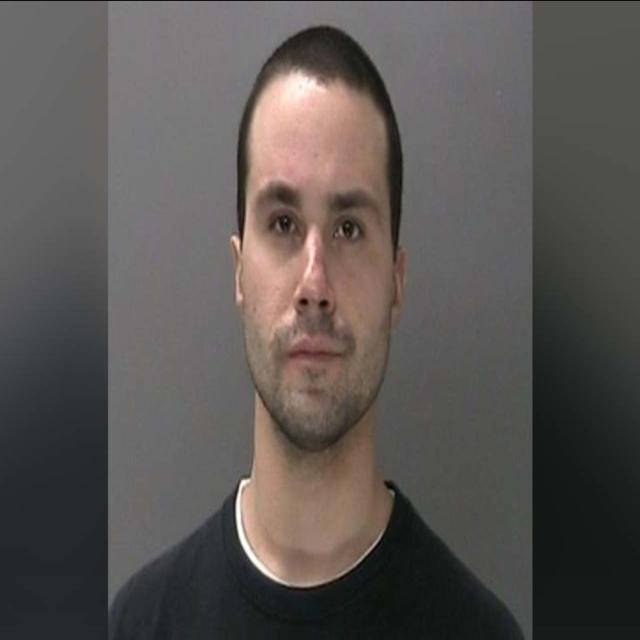human: (113, 12, 524, 640)
